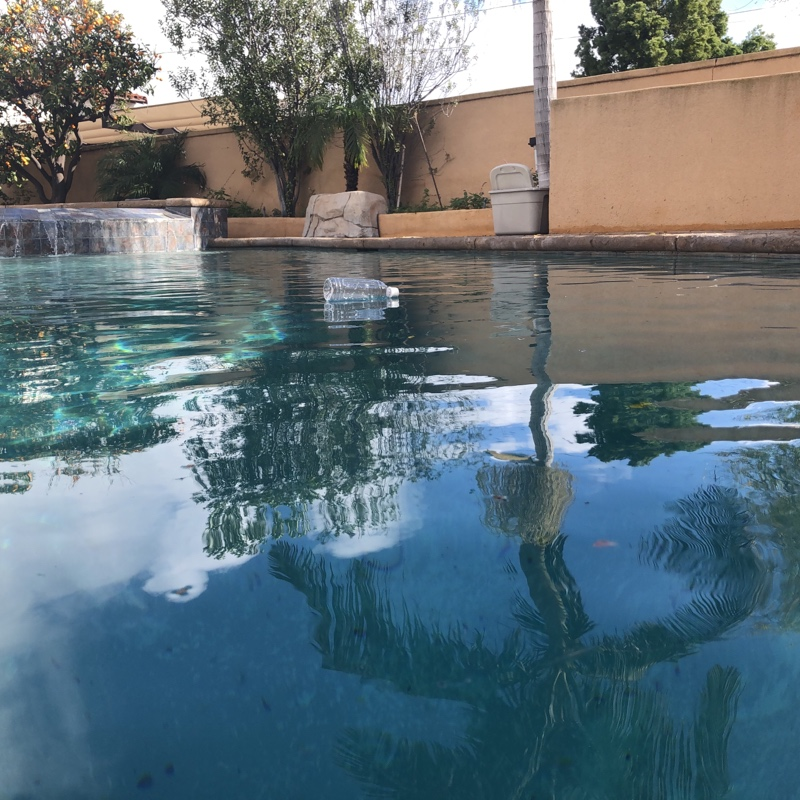Plastic Bottle: (319, 275, 401, 306)
